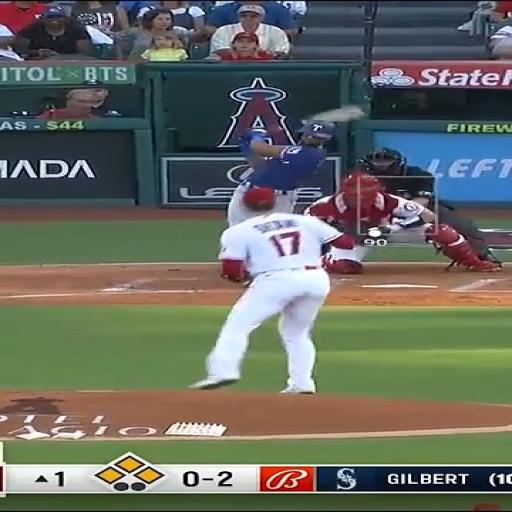bat: (311, 105, 365, 122)
